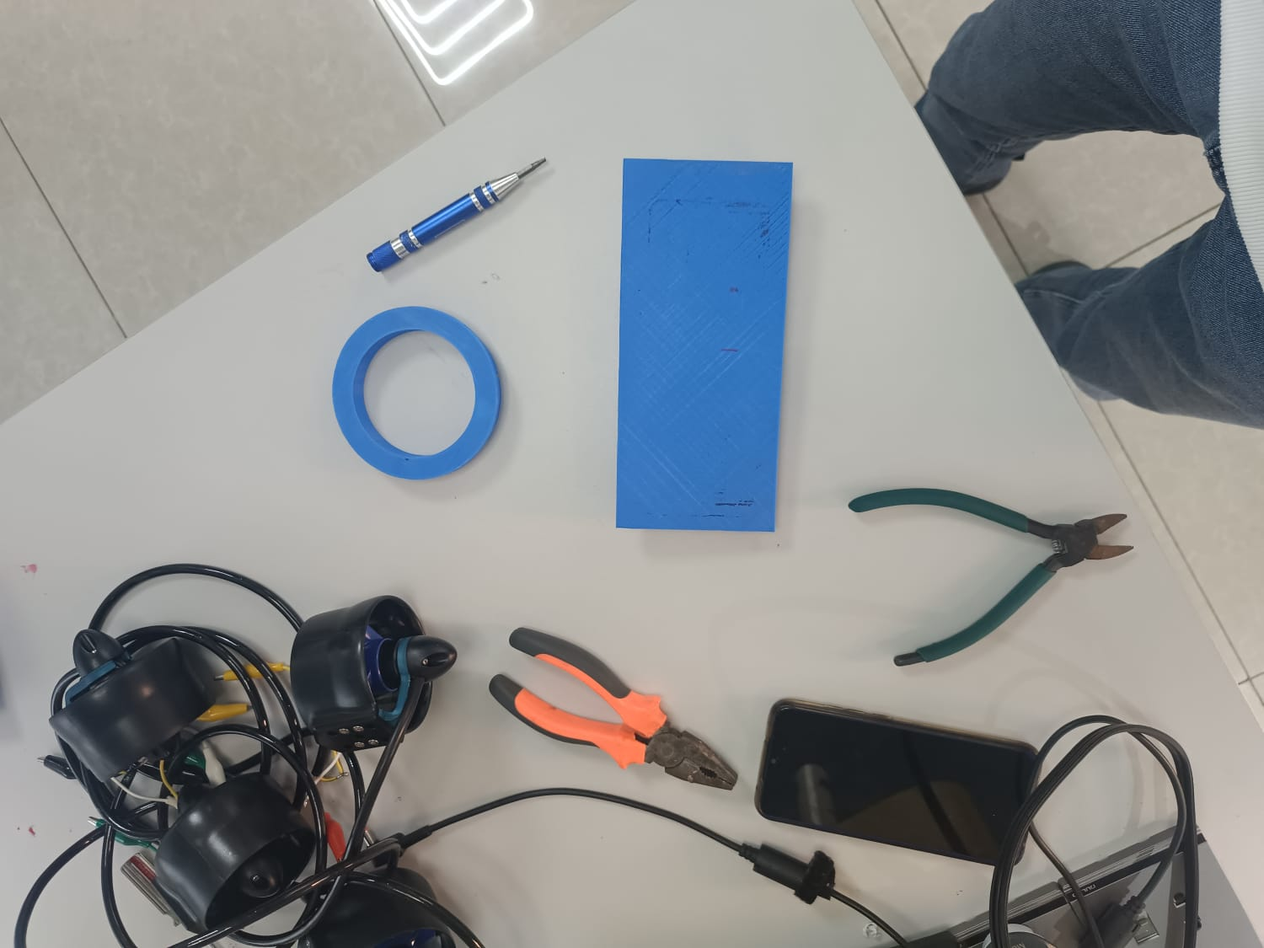Circle: (325, 300, 512, 484)
Rectangular: (611, 151, 799, 535)
